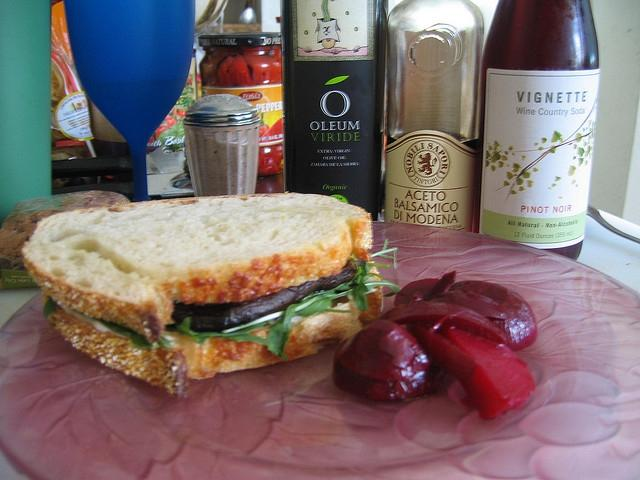lettuce: (224, 279, 402, 360), (95, 318, 173, 350)
